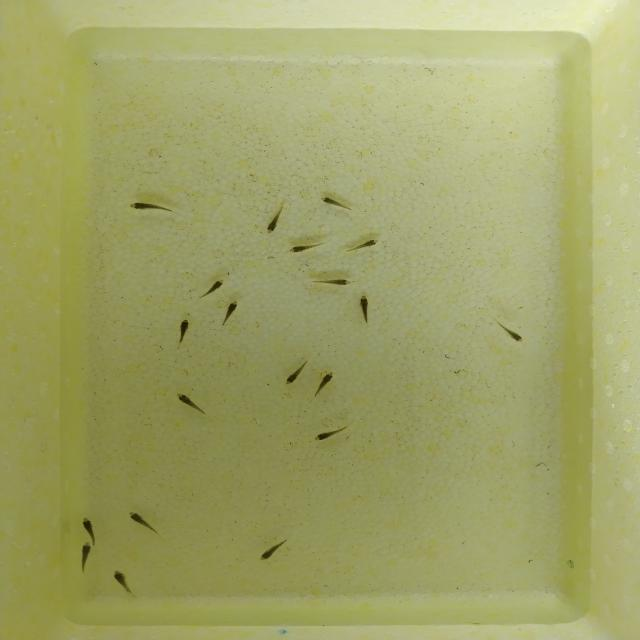fingerling: (126, 509, 166, 539), (487, 314, 527, 344), (280, 352, 311, 386), (172, 391, 210, 418), (256, 535, 294, 562), (110, 567, 140, 600), (263, 201, 291, 235), (126, 199, 184, 215), (311, 422, 352, 443), (313, 368, 337, 402), (217, 300, 244, 330), (195, 276, 227, 300), (342, 236, 380, 255), (316, 194, 356, 212), (307, 276, 357, 289), (356, 293, 374, 328), (282, 241, 330, 254), (76, 540, 94, 574), (174, 318, 192, 350), (77, 515, 99, 536)
